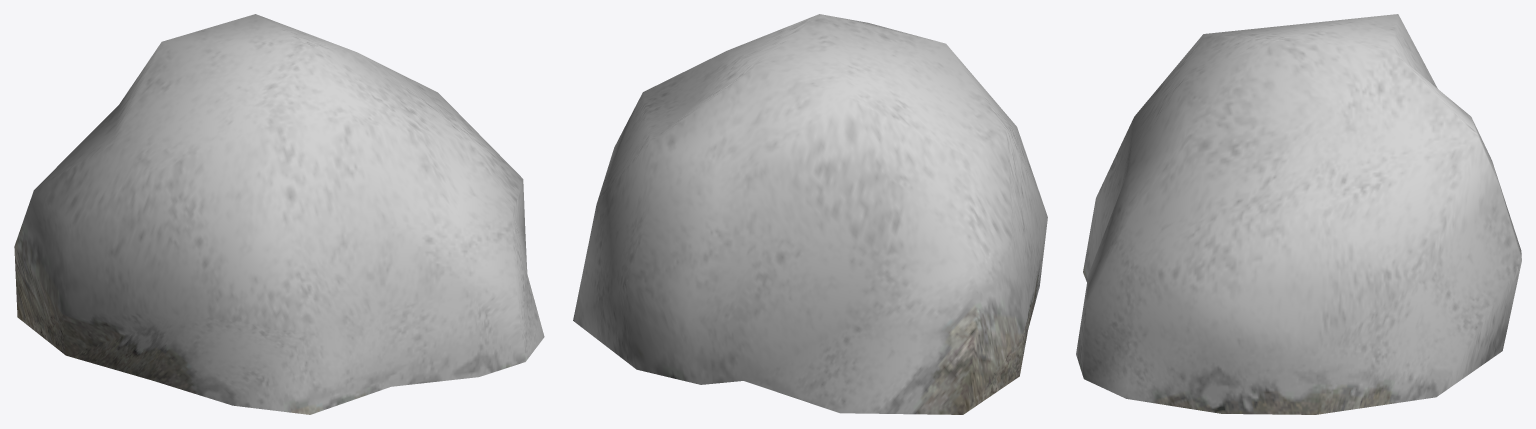
The model's file is general_obj_stone19.fbx.
The picture shows the model from 3 angles, left to right: view 1: azimuth 30°, elevation 25°; view 2: azimuth 150°, elevation 25°; view 3: azimuth 270°, elevation 25°; orthographic projection. The views are drawn at different scales.
Visible parts, largest first — view 1: Sphere01; view 2: Sphere01; view 3: Sphere01.
Part boxes in pixels (<box>): Sphere01: <box>14,14,544,414</box>; Sphere01: <box>573,14,1047,414</box>; Sphere01: <box>1076,14,1521,414</box>.
Size of the model in its own units: 7.06 by 4.45 by 6.47.
